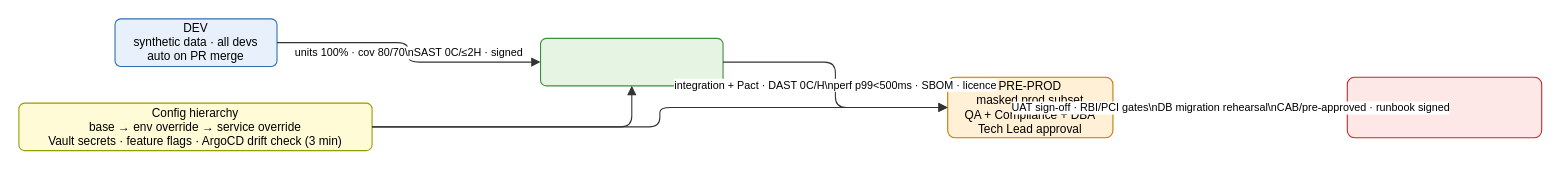
This 1561x170 diagram has some shape labels left out. The centre of each missing label's shape, as x and y in pixels:
"PRODUCTION real data · SRE + RM only dual approval RM + SRE Lead blackout check" goes at pixel 1444 107.
"STAGING anonymised data · dev+QA auto if gates pass" goes at pixel 631 61.
